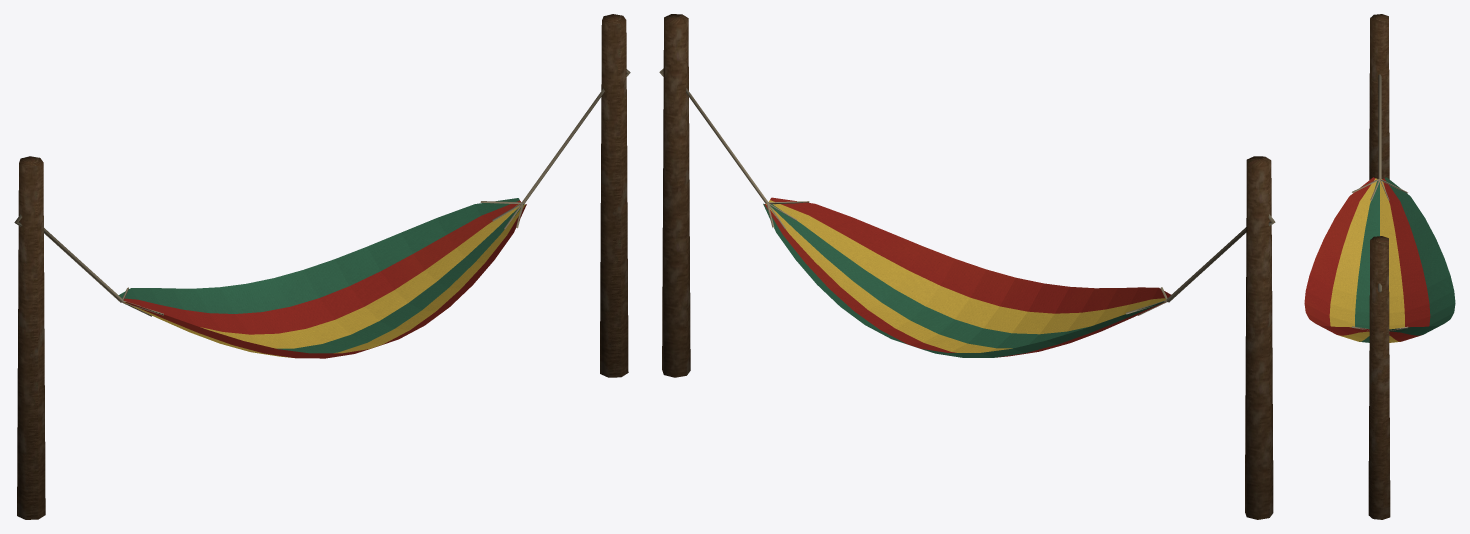
The model's file is hammock.glb.
3 views of the same model, side by side, from view 1: azimuth 30°, elevation 25°; view 2: azimuth 150°, elevation 25°; view 3: azimuth 270°, elevation 25° (orthographic). The views are drawn at different scales.
Visible parts, largest first — view 1: hammock_mesh; view 2: hammock_mesh; view 3: hammock_mesh.
Part boxes in pixels (x1,y1,x2,y2): hammock_mesh: (14, 14, 630, 519); hammock_mesh: (659, 14, 1275, 519); hammock_mesh: (1304, 14, 1455, 519).
Bounding box in the file's own units: 3.38 × 1.85 × 0.9201.
3 materials, 2 textured.
